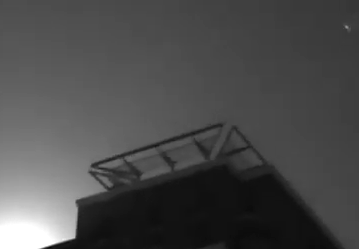Target: (345, 26, 348, 29)
